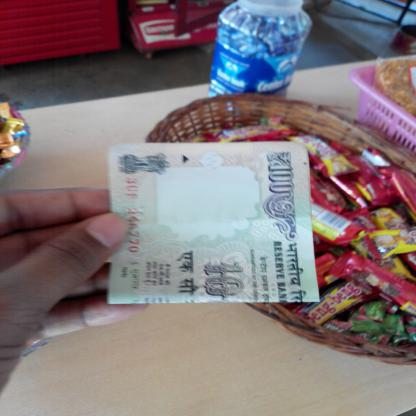Old100Front: (108, 141, 320, 304)
